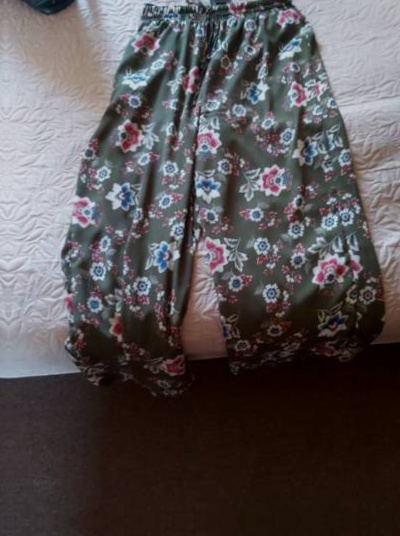Pants: (56, 0, 373, 414)
